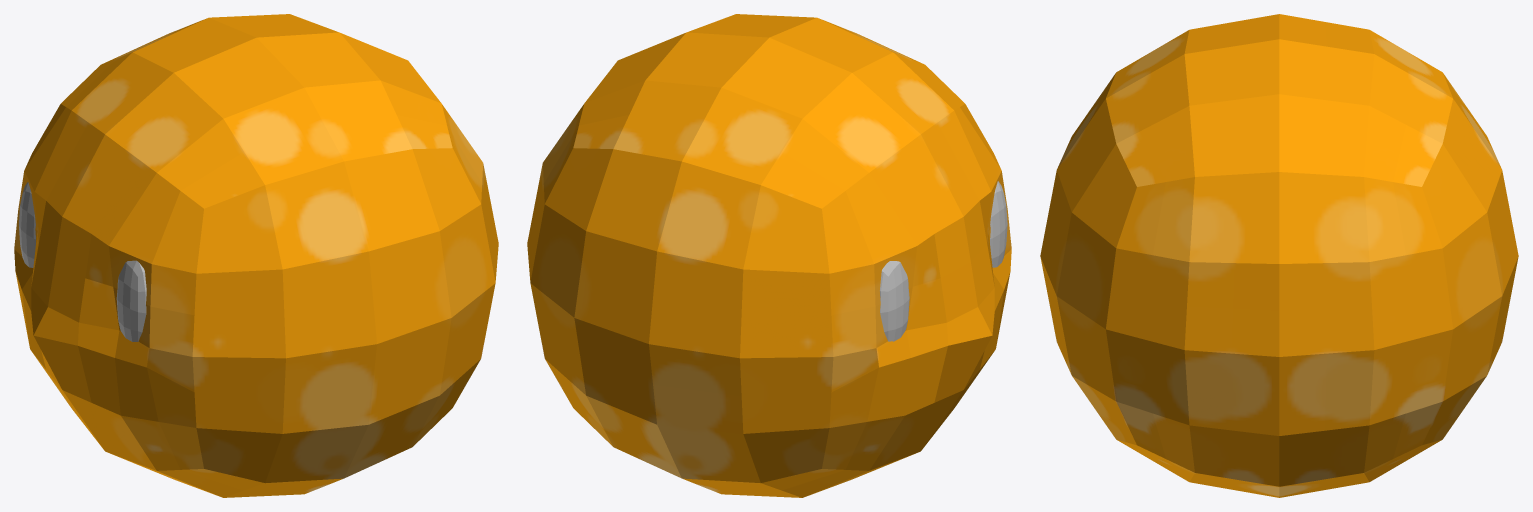
The model's file is firewisp.obj.
3 renders of one model, left to right at view 1: azimuth 30°, elevation 25°; view 2: azimuth 150°, elevation 25°; view 3: azimuth 270°, elevation 25°, orthographic.
Parts seen in each view (by area): view 1: Cube, 立方体.002_立方体.003, 立方体.001; view 2: Cube, 立方体.001, 立方体.002_立方体.003; view 3: Cube.
Boxes of the visible parts, x1,y1,x2,y2 form: Cube: [14, 14, 498, 497]; 立方体.002_立方体.003: [116, 260, 146, 341]; 立方体.001: [19, 182, 35, 267]; Cube: [527, 14, 1011, 497]; 立方体.001: [880, 261, 909, 341]; 立方体.002_立方体.003: [990, 181, 1007, 267]; Cube: [1040, 14, 1518, 497].
Bounding box in the file's own units: 1.74 × 1.68 × 1.68.
